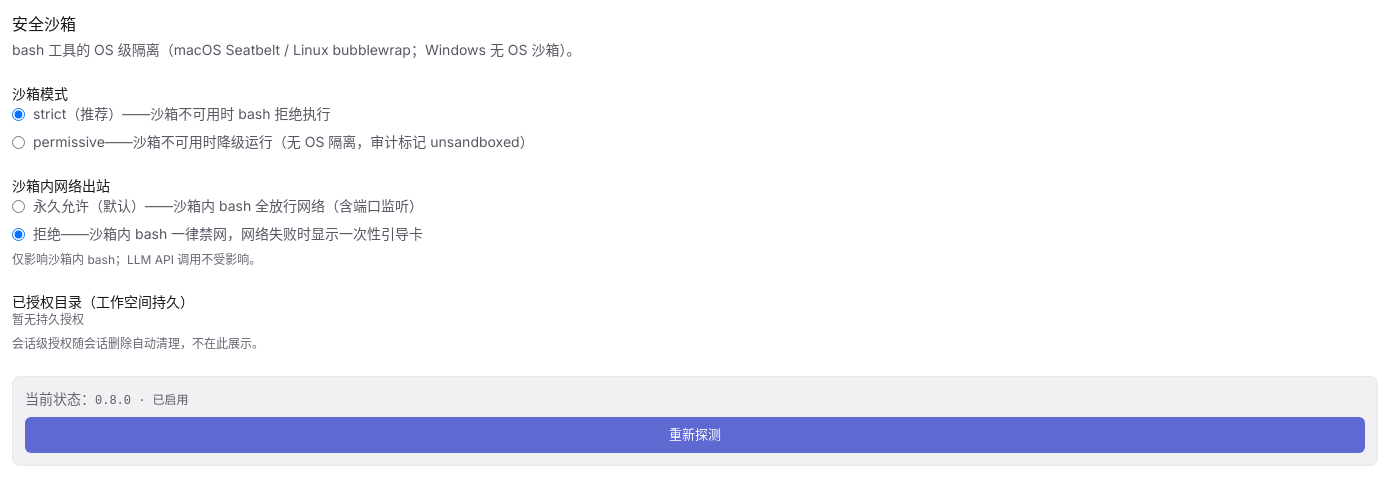
SandboxSettingsPanel › 网络双态：deny 态点「永久允许（默认）」→ updateGlobal({ sandboxNetworkPolicy: allow }) + 乐观选中
Check: the text "0.8.0 · 已启用" is shown, box [95,394,189,408]
Click the radio button labelled "永久允许（默认）" at (18, 206), box [12,200,25,213]
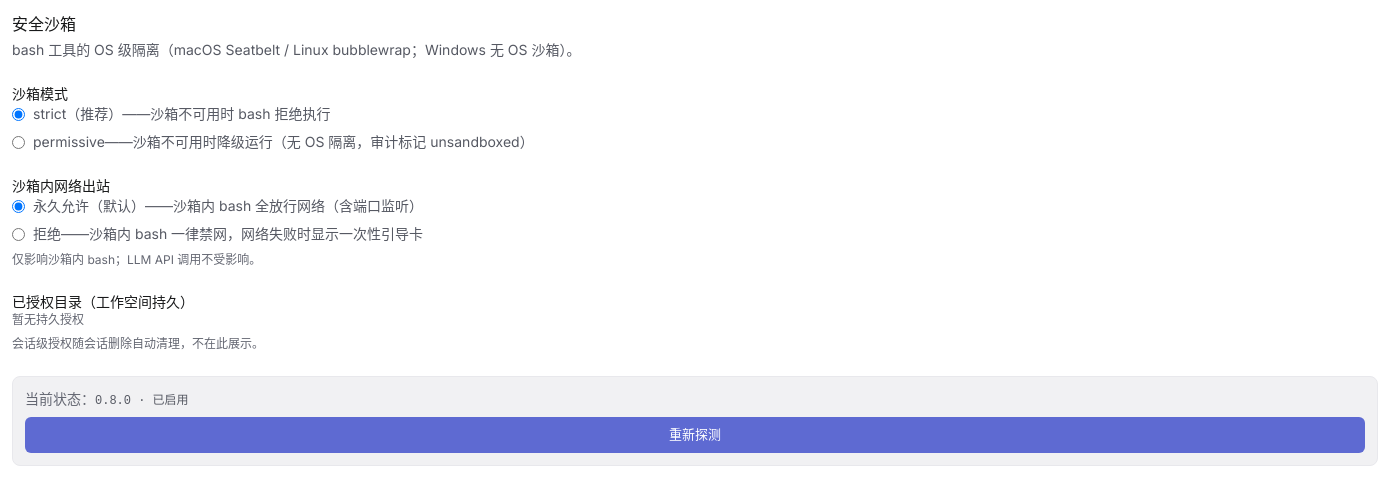
Check: the radio button labelled "永久允许（默认）" is checked, box [12,200,25,213]
Check: the radio button labelled "拒绝" is not checked, box [12,228,25,241]
